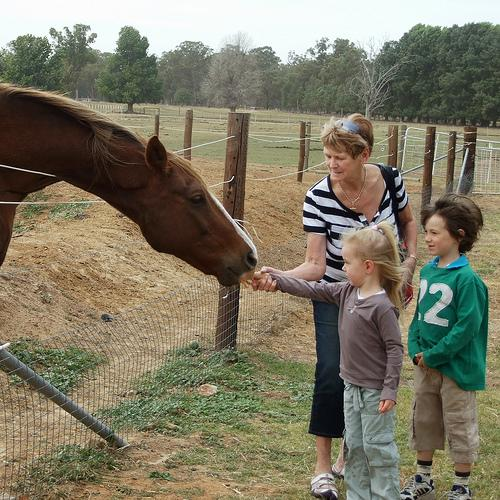person: (251, 225, 403, 500)
